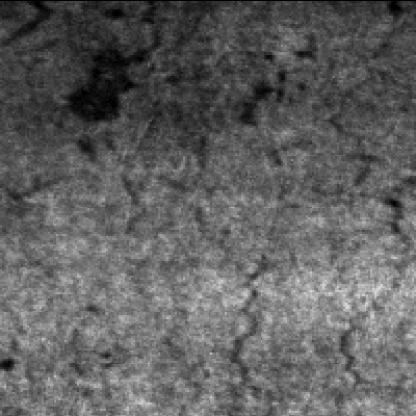crazing: (224, 146, 399, 416), (123, 123, 206, 239)
patches: (58, 48, 133, 127)
